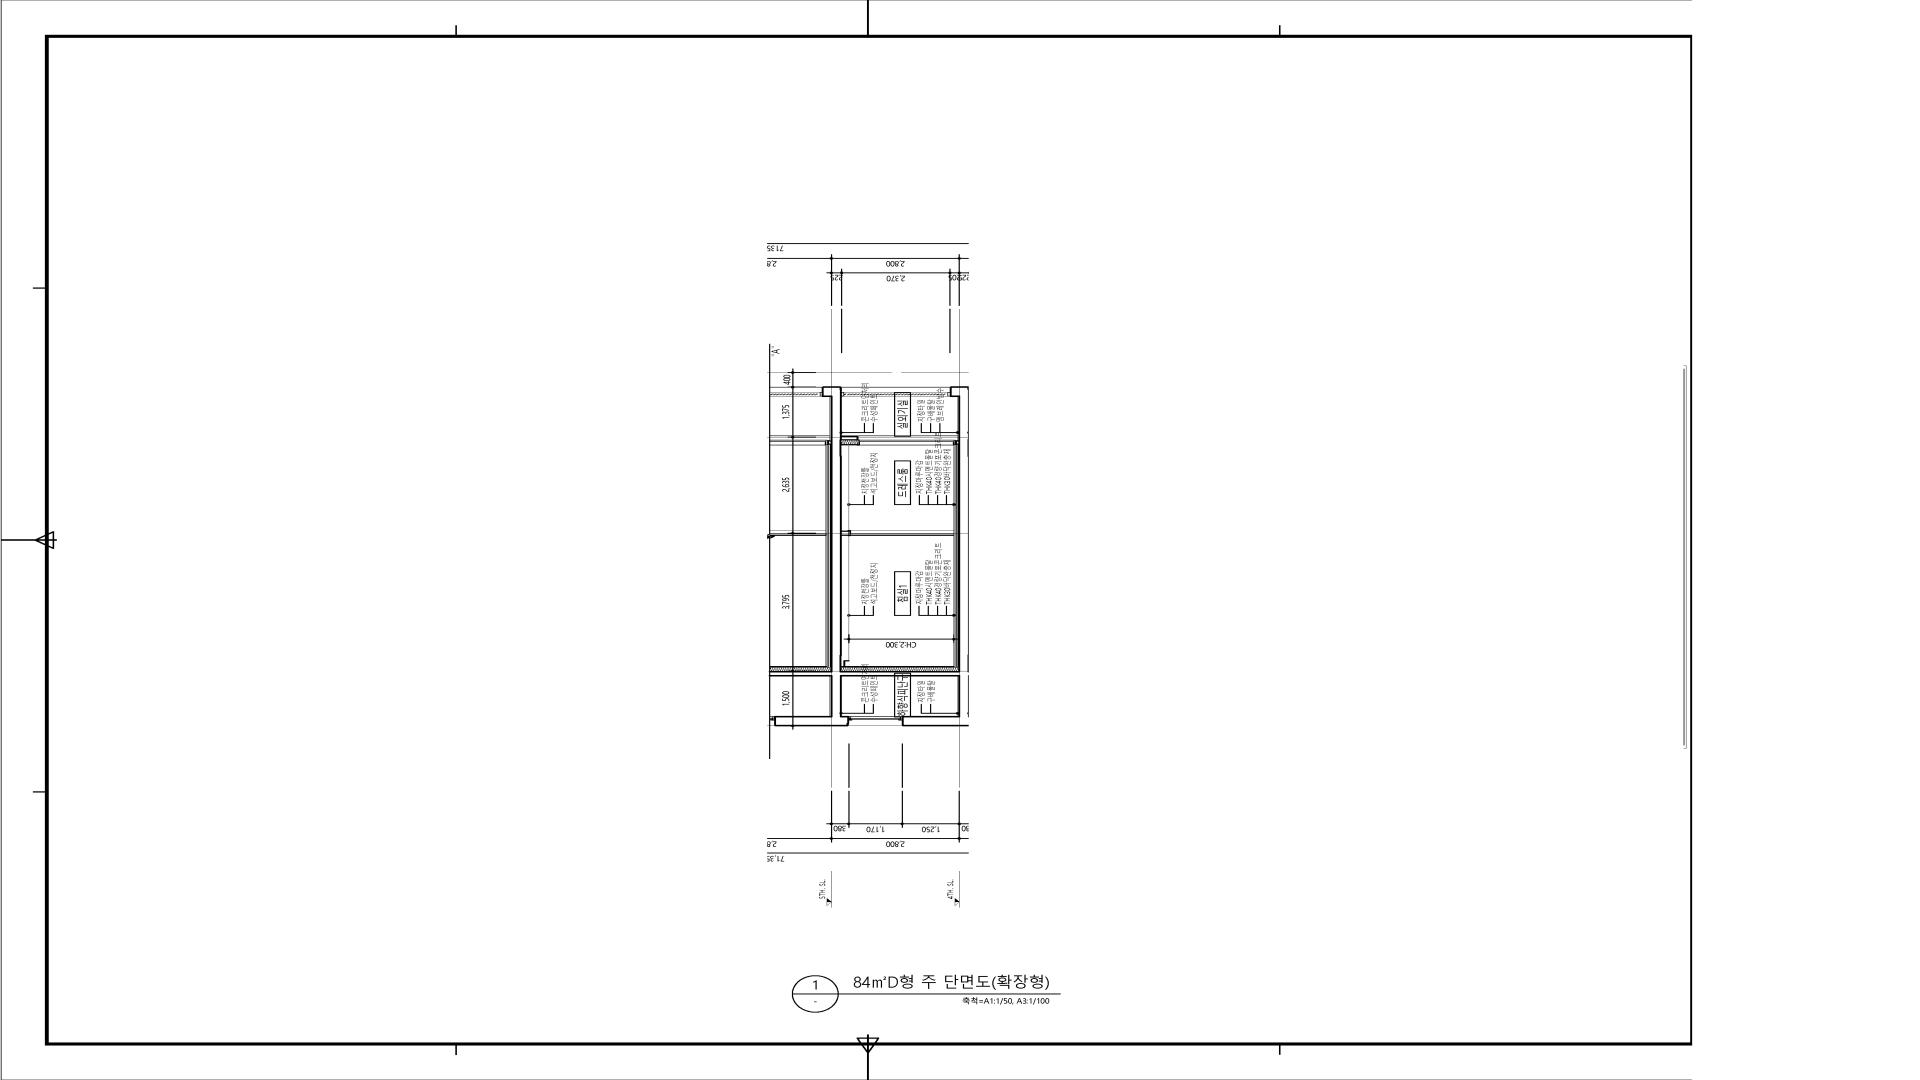background: (1, 0, 1920, 1080)
door: (848, 530, 953, 537), (857, 439, 956, 446)
wall: (902, 386, 969, 727), (831, 386, 849, 727), (841, 671, 959, 676), (841, 435, 858, 440)
window: (841, 386, 949, 397), (849, 716, 902, 725)
